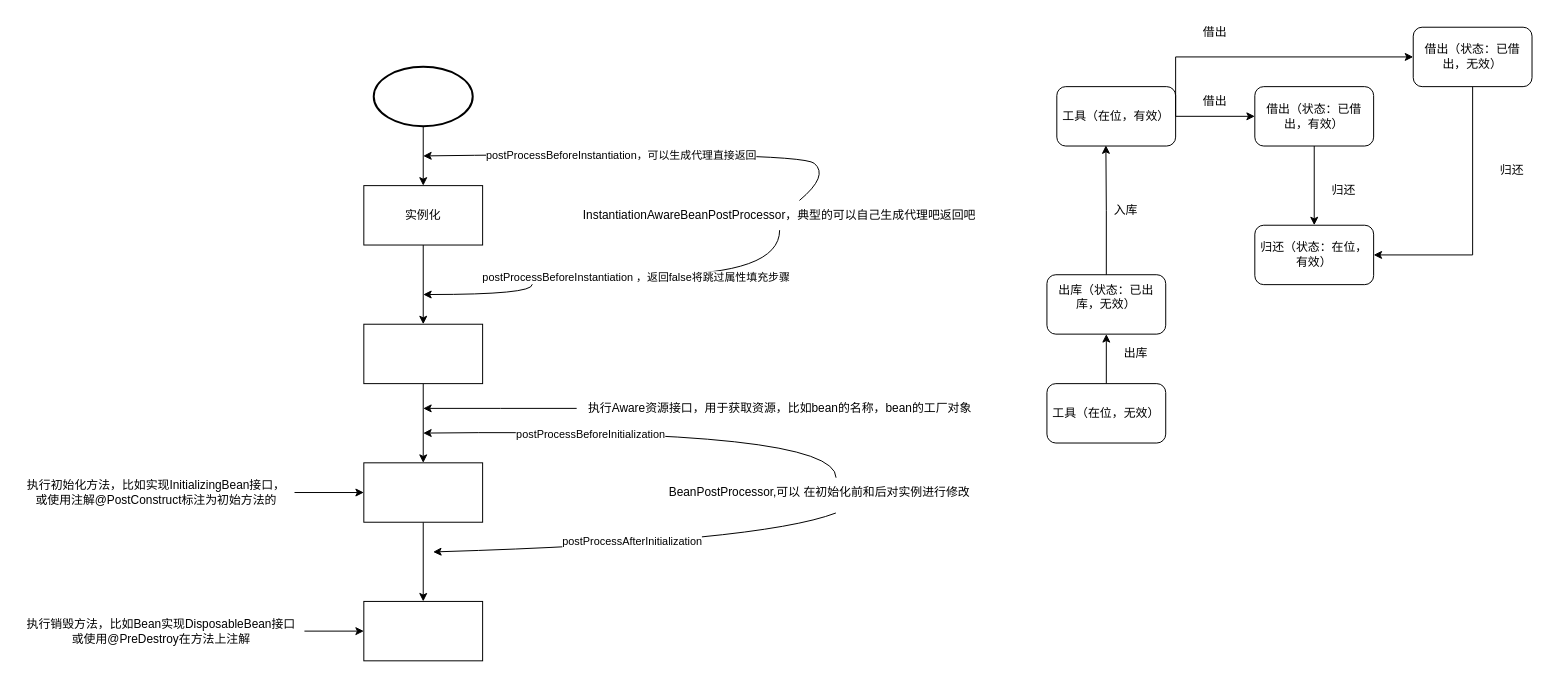
The diagram is 1558 pixels wide and 678 high, and some of its shapes have lost their labels. The centre of each missing label's shape, as x and y in pixels:
初始化: (423,492)
填充属性: (423,353)
销毁: (423,630)
